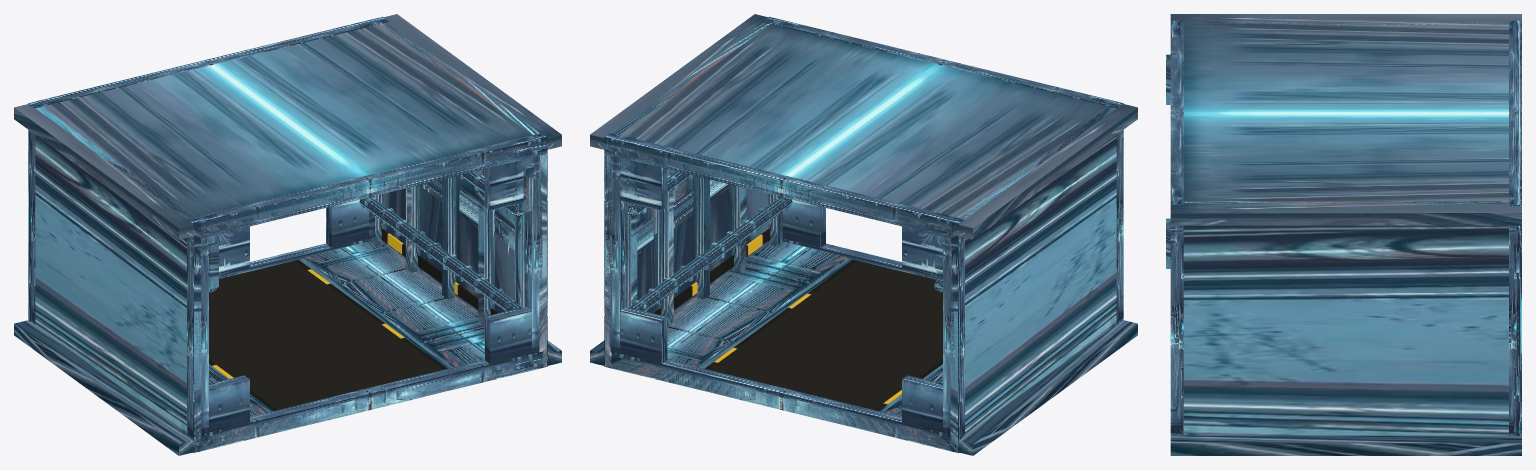
Rendered from hangar_koridor_ice.glb.
The picture shows the model from 3 angles, left to right: view 1: azimuth 30°, elevation 25°; view 2: azimuth 150°, elevation 25°; view 3: azimuth 270°, elevation 25°; orthographic projection. The views are drawn at different scales.
Parts seen in each view (by area): view 1: LOD0_koridor; view 2: LOD0_koridor; view 3: LOD0_koridor.
Part boxes in pixels (<box>): LOD0_koridor: <box>14,14,561,455</box>; LOD0_koridor: <box>590,14,1137,455</box>; LOD0_koridor: <box>1166,14,1521,455</box>.
Size of the model in its own units: 10.2 by 5.84 by 7.7.
Materials: 1 (1 with a texture image).
